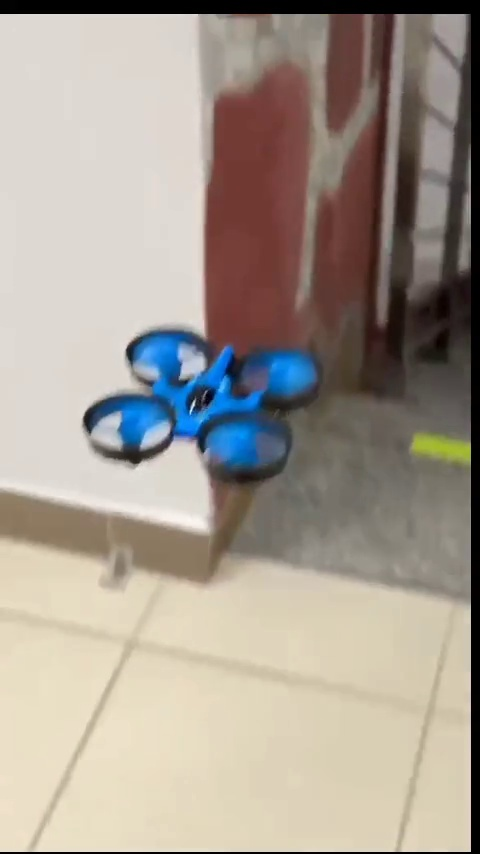drone: (74, 329, 323, 486)
